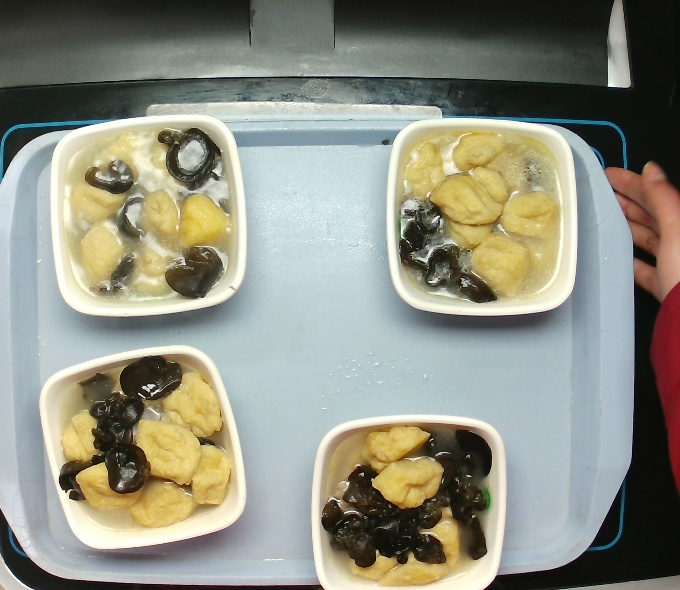wcq-MuErYouPaoTang: (50, 352, 243, 538), (385, 127, 573, 309), (56, 129, 243, 300), (323, 423, 494, 582)
